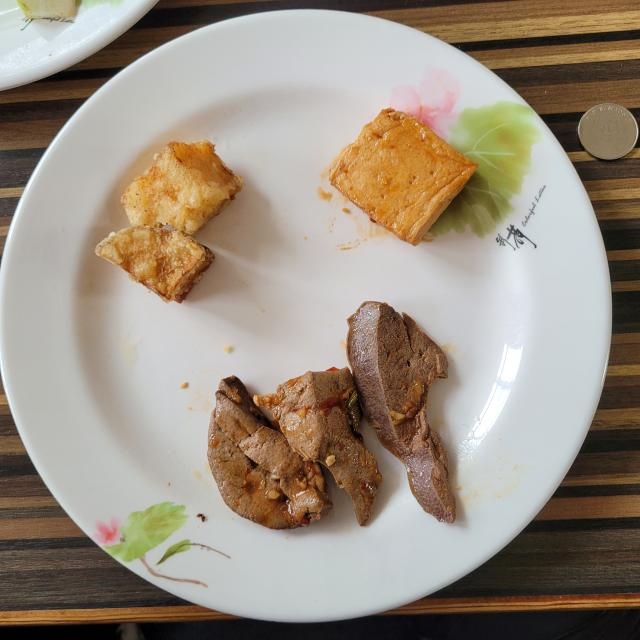coin: (578, 102, 639, 160)
creamy tofu: (329, 109, 478, 245)
fried potato: (95, 140, 244, 302)
pig liver: (208, 302, 455, 529)
